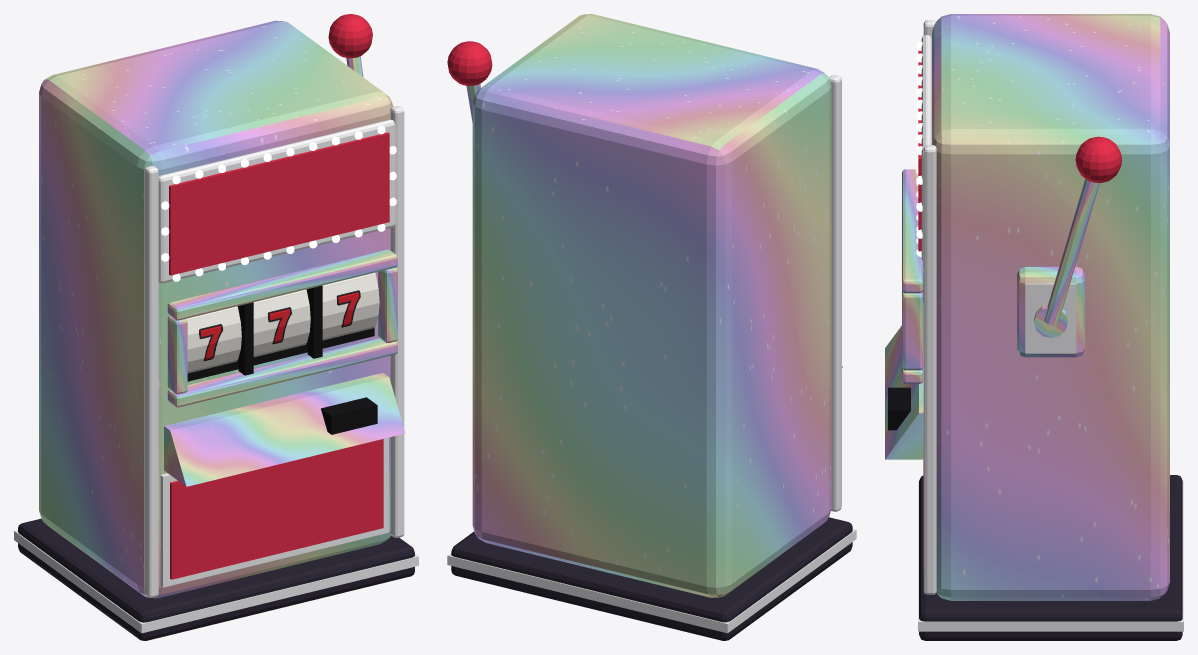
Rendered from slot_machine_tier3.glb.
3 views of the same model, side by side, from view 1: azimuth 30°, elevation 25°; view 2: azimuth 150°, elevation 25°; view 3: azimuth 270°, elevation 25° (orthographic). The views are drawn at different scales.
Parts seen in each view (by area): view 1: Body, Header, Reel_M, Reel_R, Reel_L, Lever; view 2: Body, Lever; view 3: Body, Lever, Header.
Part boxes in pixels (x1,y1,x2,y2): Body: (14,20,418,640); Header: (158,119,396,283); Reel_M: (253,289,310,357); Reel_R: (322,272,379,340); Reel_L: (186,306,241,373); Lever: (328,14,372,77); Body: (447,14,856,640); Lever: (447,41,492,122); Body: (885,14,1183,640); Lever: (1034,136,1122,337); Header: (916,35,931,262).
Bounding box in the file's own units: 0.8925 × 1.34 × 0.7025.
Materials: 10 (4 with a texture image).
